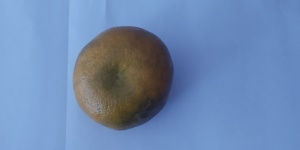BAD: (72, 25, 178, 135)
